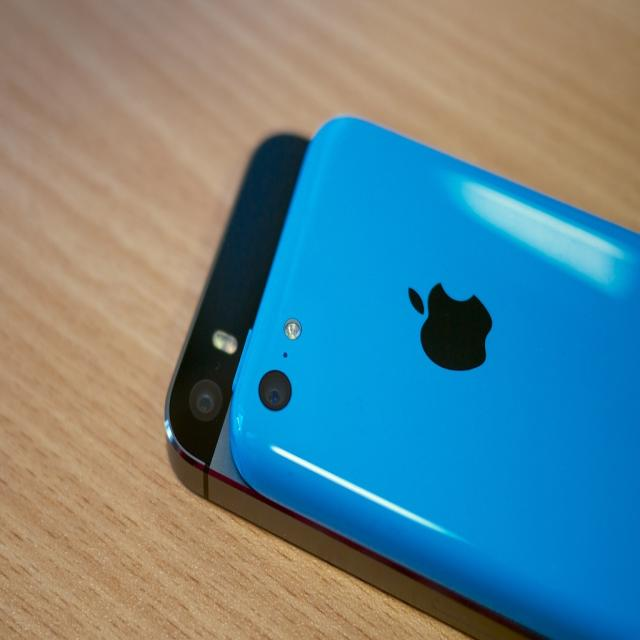Mobile-phone: (228, 115, 640, 639)
